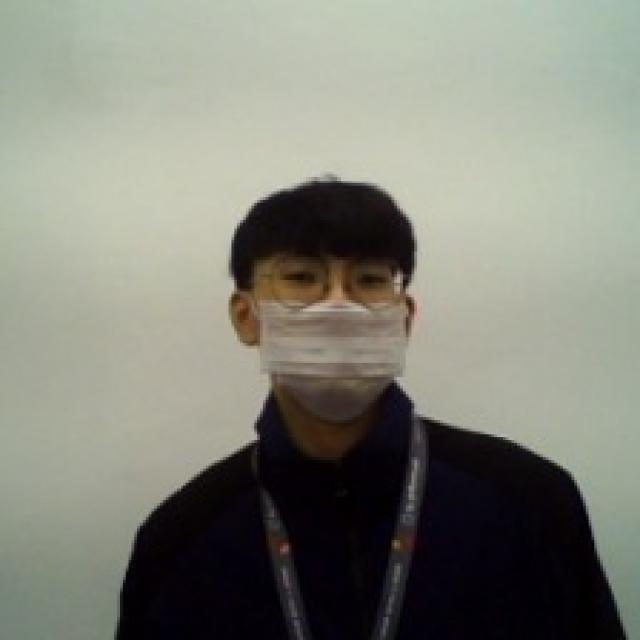mask: (231, 282, 418, 426)
no_gloves: (222, 171, 426, 302)
